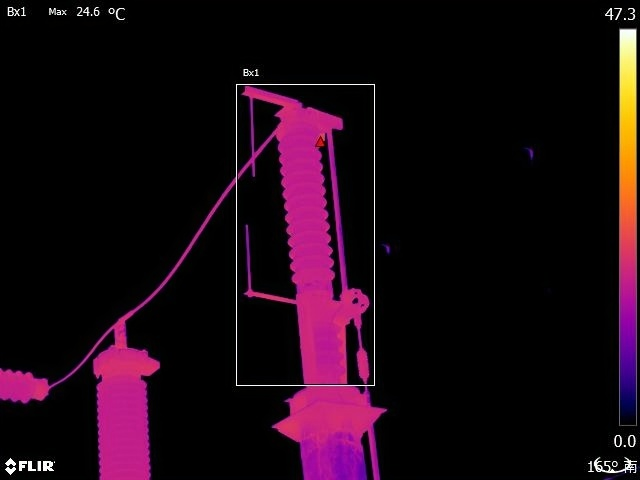lightning arrester: (92, 330, 162, 480)
post insulator: (270, 114, 347, 384)
